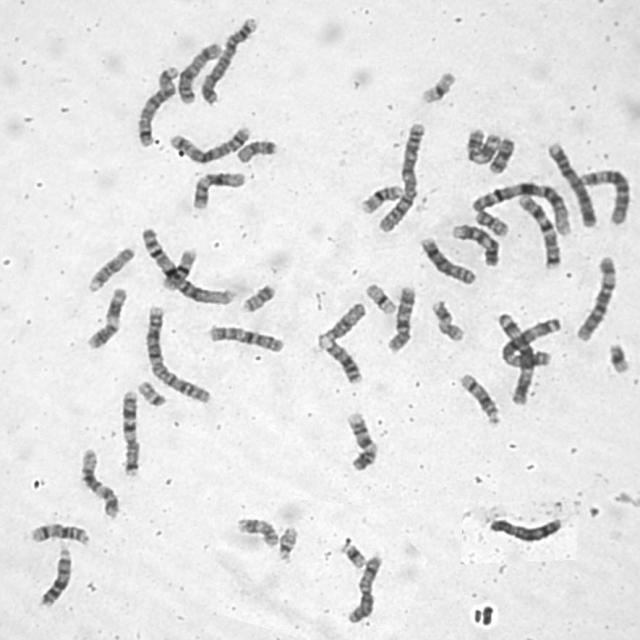A1: (137, 223, 237, 306), (467, 176, 574, 236)
A2: (140, 301, 213, 404), (374, 118, 428, 233)
A3: (494, 308, 537, 406), (496, 313, 562, 371)
B4: (195, 12, 260, 106), (543, 137, 599, 229)
B5: (133, 62, 180, 148), (165, 121, 252, 165)
C10: (204, 321, 286, 354), (383, 281, 418, 354)
C11: (82, 282, 129, 352), (462, 124, 502, 166)
C12: (76, 443, 121, 520), (188, 166, 247, 211)
C6: (571, 251, 619, 343), (576, 165, 632, 227)
C7: (514, 189, 563, 271), (116, 386, 142, 478)
C8: (416, 233, 477, 286), (480, 514, 564, 545)
C9: (448, 219, 502, 268), (341, 407, 380, 472)
D13: (35, 540, 73, 608), (316, 334, 364, 386)
D14: (455, 368, 502, 427), (25, 518, 91, 547)
D15: (84, 241, 137, 293), (314, 298, 368, 346)
E16: (158, 243, 200, 291), (357, 180, 405, 216)
E17: (428, 296, 467, 344), (233, 512, 280, 549)
E18: (232, 134, 278, 164), (486, 133, 516, 175)
F19: (416, 66, 457, 105), (361, 278, 398, 316)
F20: (238, 279, 278, 314), (471, 206, 511, 238)
G21: (335, 535, 369, 570), (604, 339, 632, 375)
G22: (133, 376, 169, 408), (274, 522, 300, 563)
X: (174, 38, 224, 106), (342, 549, 385, 625)
